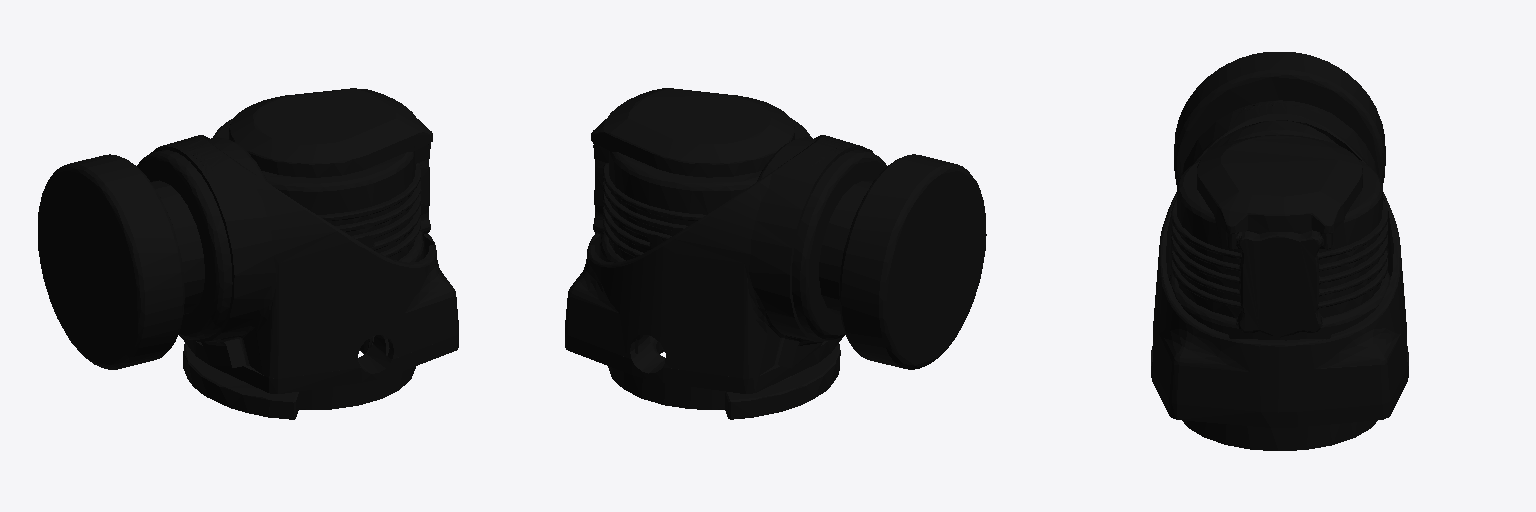
Rendered from front_right_hip.obj.
3 renders of one model, left to right at view 1: azimuth 30°, elevation 25°; view 2: azimuth 150°, elevation 25°; view 3: azimuth 270°, elevation 25°, orthographic.
Visible parts, largest first — view 1: _2-042137-001-A00_TOP_LEVEL_DEFEATURED_-_NOT_FOR_PRODUCTION_007; view 2: _2-042137-001-A00_TOP_LEVEL_DEFEATURED_-_NOT_FOR_PRODUCTION_007; view 3: _2-042137-001-A00_TOP_LEVEL_DEFEATURED_-_NOT_FOR_PRODUCTION_007.
Part boxes in pixels (left/top/right/bottom): _2-042137-001-A00_TOP_LEVEL_DEFEATURED_-_NOT_FOR_PRODUCTION_007: left=38, top=88, right=458, bottom=419; _2-042137-001-A00_TOP_LEVEL_DEFEATURED_-_NOT_FOR_PRODUCTION_007: left=565, top=88, right=986, bottom=419; _2-042137-001-A00_TOP_LEVEL_DEFEATURED_-_NOT_FOR_PRODUCTION_007: left=1151, top=52, right=1408, bottom=450.
Bounding box in the file's own units: 0.1417 × 0.1 × 0.0941.